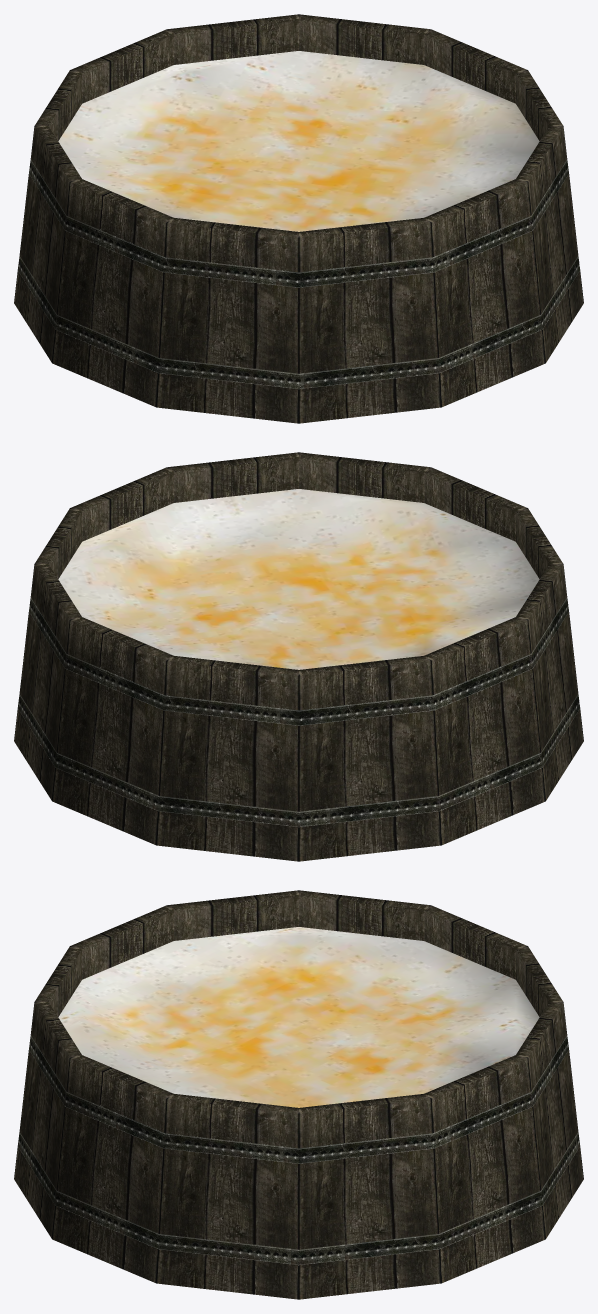
Rendered from KM_VOB_VAT_02.glb.
The picture shows the model from 3 angles, top to bottom: view 1: azimuth 30°, elevation 25°; view 2: azimuth 150°, elevation 25°; view 3: azimuth 270°, elevation 25°; orthographic projection.
Visible parts, largest first — view 1: Mesh; view 2: Mesh; view 3: Mesh.
Part boxes in pixels (box(x1,y1,x2,y2)): Mesh: box(14, 14, 583, 423); Mesh: box(14, 452, 583, 861); Mesh: box(14, 890, 583, 1299).
Bounding box in the file's own units: 3.02 × 1.03 × 3.02.
Materials: 3 (3 with a texture image).
